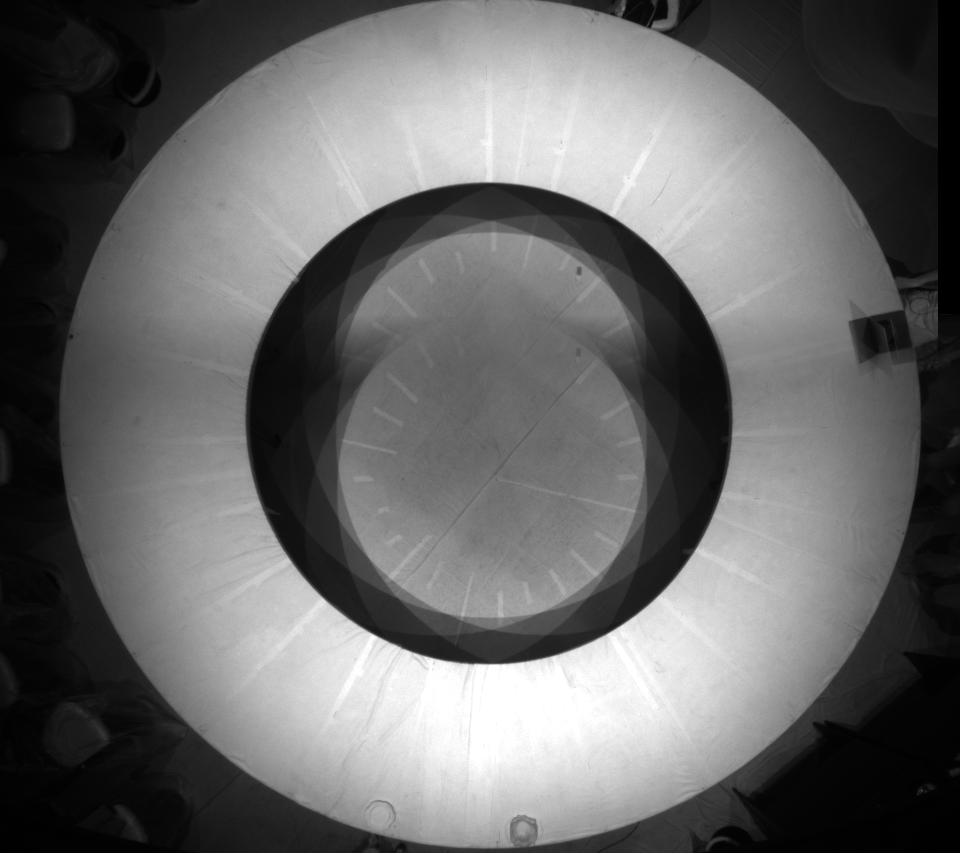Plate: (505, 811, 542, 850)
